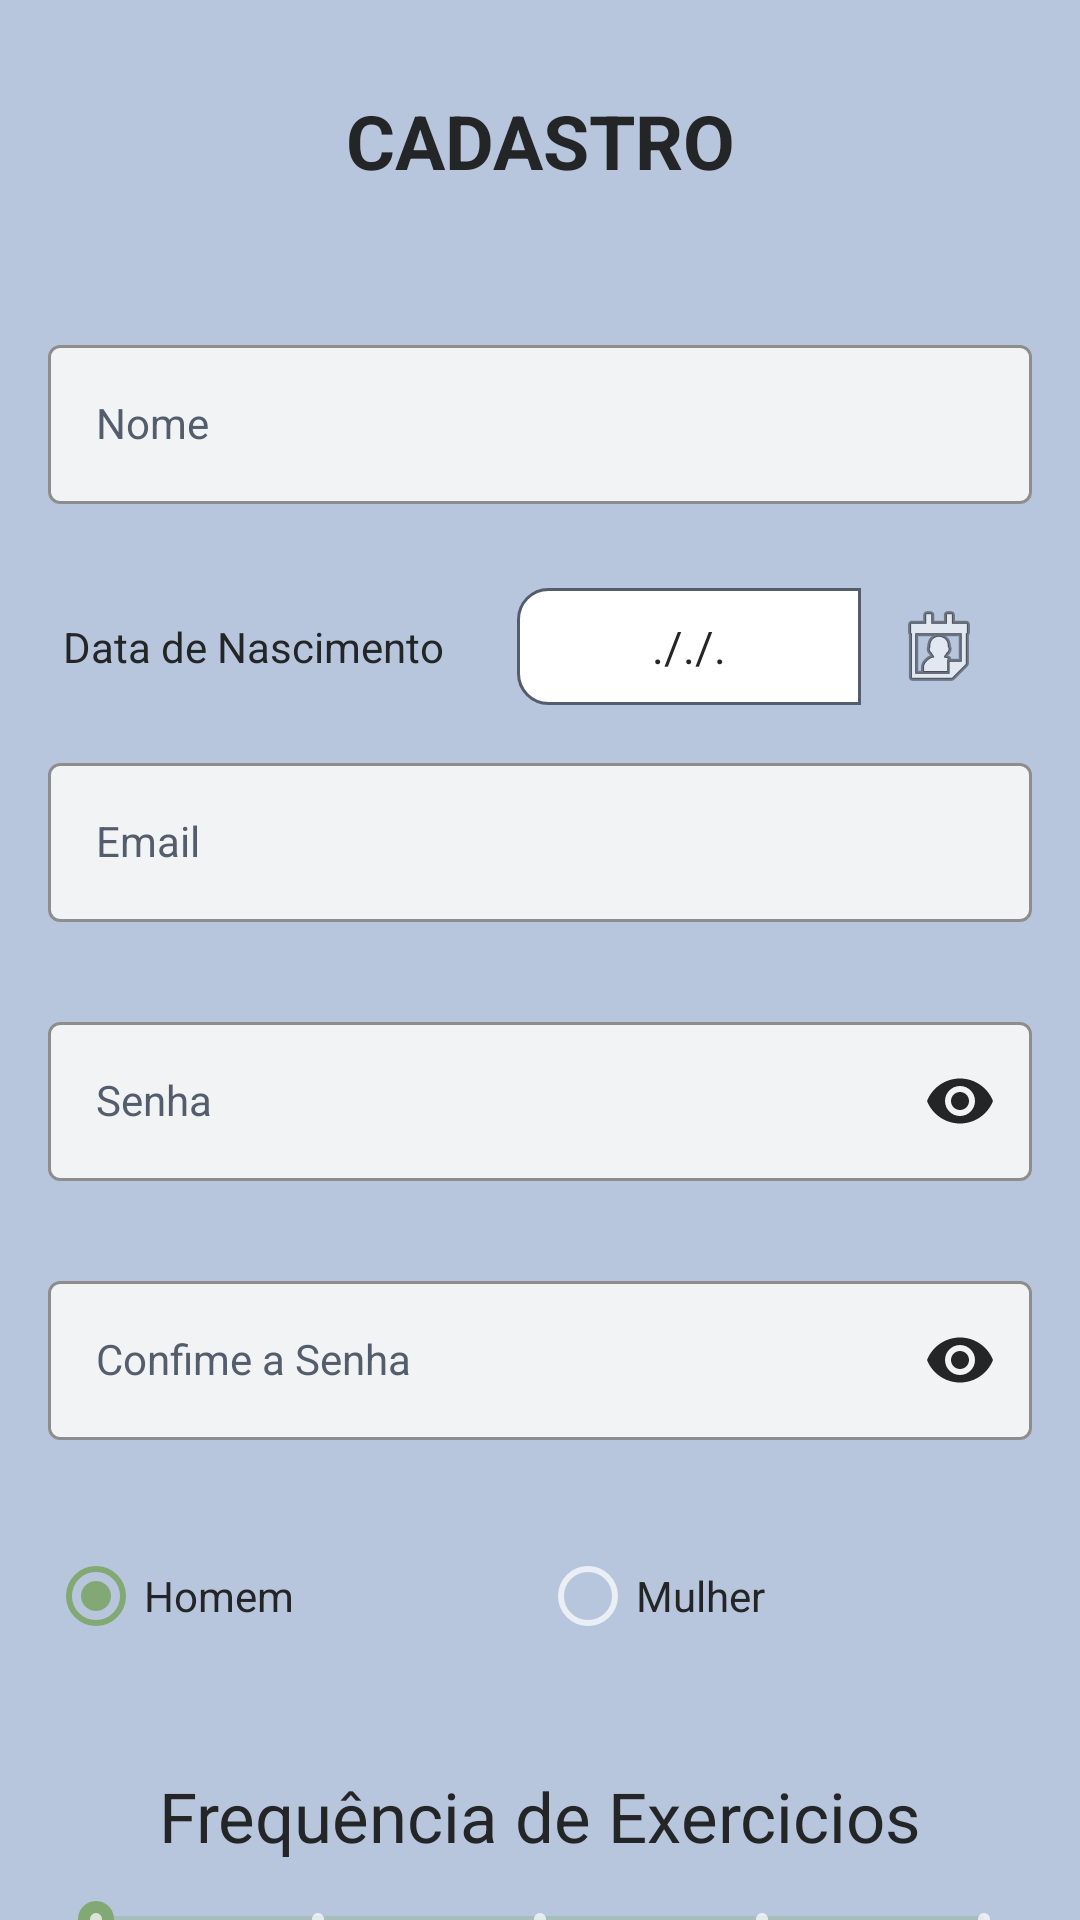

Where to tap for icons on this 1080x1920 app screen, as (x=x, y=y):
Datanasc: (x=939, y=646)
